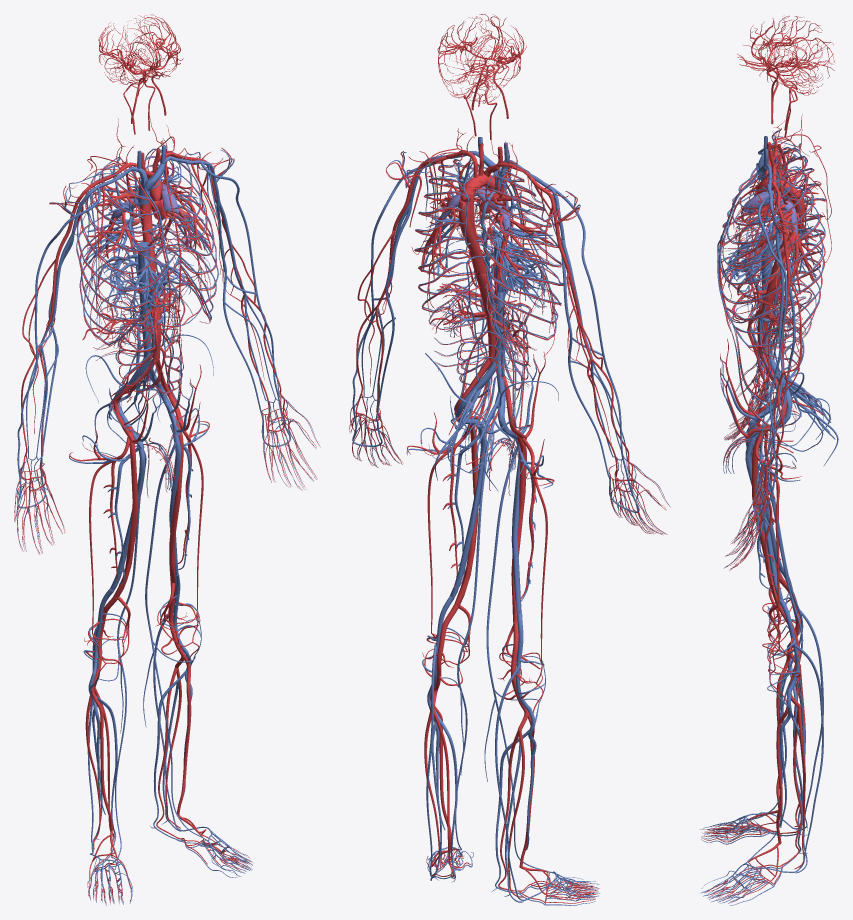
The model's file is vessels.glb.
3 renders of one model, left to right at view 1: azimuth 30°, elevation 25°; view 2: azimuth 150°, elevation 25°; view 3: azimuth 270°, elevation 25°, orthographic. The views are drawn at different scales.
Parts seen in each view (by area): view 1: Set of anterior intercostal veins (×2), Posterior intercostal arteries (×2), Left great saphenous vein, Right femoral artery, Right great saphenous vein, Right cephalic vein, Left femoral artery, Left cephalic vein, Right femoral vein, Left anterior tibial artery; view 2: Set of anterior intercostal veins (×2), Posterior intercostal arteries (×2), Right great saphenous vein, Left great saphenous vein, Descending aorta, Left femoral vein, Right femoral vein, Left femoral artery, Right cephalic vein, Right femoral artery, Right small saphenous vein, Left cephalic vein (+3 smaller); view 3: Set of anterior intercostal veins (×2), Posterior intercostal arteries (×2), Left cephalic vein, Left great saphenous vein, Right great saphenous vein, Left femoral vein, Left femoral artery, Left small saphenous vein, Right small saphenous vein, Left anterior tibial artery, Left basilic vein, Left anterior tibial vein (+12 smaller).
Part boxes in pixels (x1,y1,x2,y2): Set of anterior intercostal veins (×2): (76,148,218,344); Posterior intercostal arteries (×2): (76,156,217,346); Left great saphenous vein: (143,440,205,839); Right femoral artery: (113,426,138,599); Right great saphenous vein: (115,448,146,860); Right cephalic vein: (17,186,100,479); Left femoral artery: (169,415,183,584); Left cephalic vein: (200,161,282,415); Right femoral vein: (110,448,145,590); Left anterior tibial artery: (177,655,191,815); Set of anterior intercostal veins (×2): (414,159,563,349); Posterior intercostal arteries (×2): (414,178,563,350); Right great saphenous vein: (484,446,550,872); Left great saphenous vein: (455,440,487,850); Descending aorta: (458,200,495,362); Left femoral vein: (449,430,485,600); Right femoral vein: (511,440,521,615); Left femoral artery: (453,424,478,608); Right cephalic vein: (546,183,630,488); Right femoral artery: (511,436,526,621); Right small saphenous vein: (495,664,539,900); Left cephalic vein: (352,163,436,421); Set of anterior intercostal veins (×2): (719,147,825,348); Posterior intercostal arteries (×2): (719,157,825,349); Left cephalic vein: (758,195,787,508); Left great saphenous vein: (746,450,803,863); Right great saphenous vein: (746,425,803,819); Left femoral vein: (745,437,782,599); Left femoral artery: (752,431,780,606); Left small saphenous vein: (783,645,823,872); Right small saphenous vein: (783,610,823,829); Left anterior tibial artery: (776,706,788,843); Left basilic vein: (767,251,795,490); Left anterior tibial vein: (779,692,791,827).
Bounding box in the file's own units: 0.6488 × 1.71 × 0.2536.
